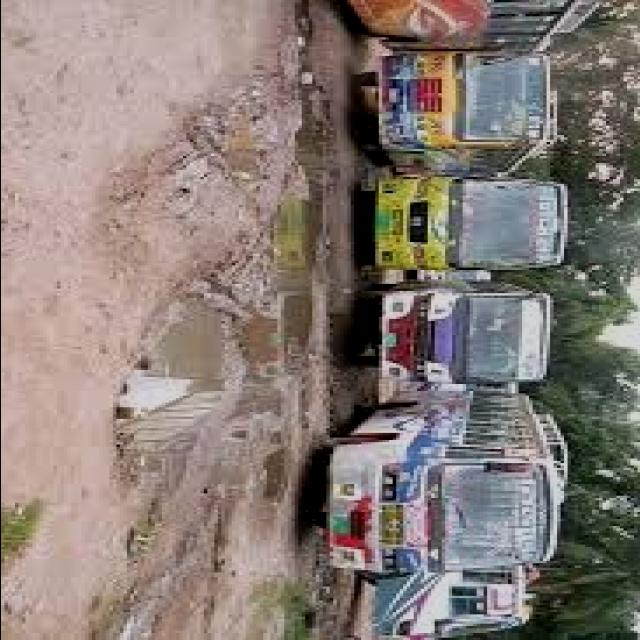bus: (314, 389, 564, 579), (358, 48, 586, 168), (348, 173, 596, 280), (355, 282, 584, 393), (339, 2, 603, 52), (346, 572, 536, 640)
